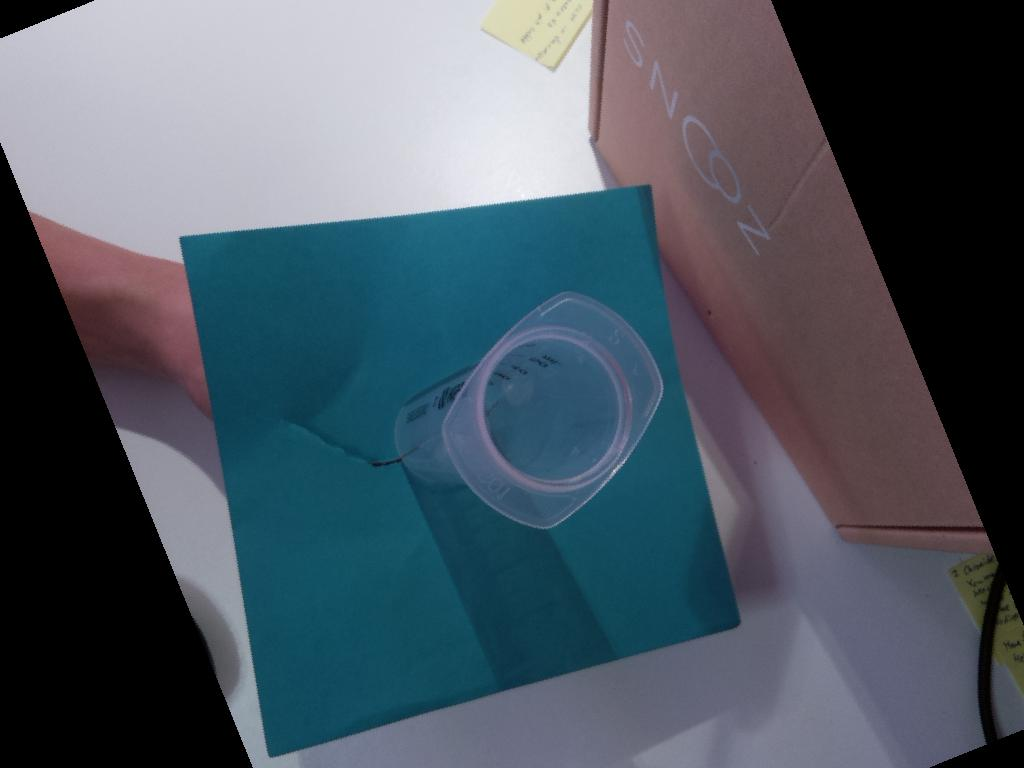clean: (440, 290, 665, 529)
